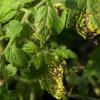Tomato Septoria leaf spot: (29, 52, 71, 99), (55, 0, 100, 37), (35, 5, 57, 48)
